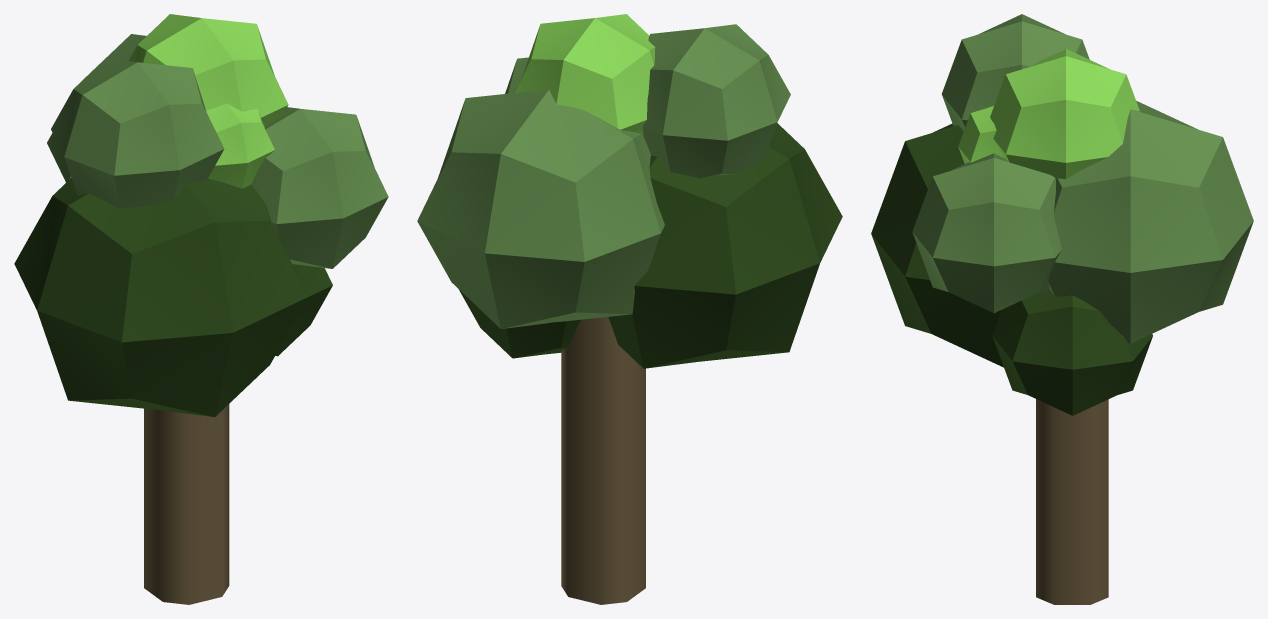
File: Tree_2.fbx
3 renders of one model, left to right at view 1: azimuth 30°, elevation 25°; view 2: azimuth 150°, elevation 25°; view 3: azimuth 270°, elevation 25°, orthographic. The views are drawn at different scales.
Visible parts, largest first — view 1: Large_bubble_Tree; view 2: Large_bubble_Tree; view 3: Large_bubble_Tree.
Boxes of the visible parts, x1,y1,x2,y2 form: Large_bubble_Tree: (14,14,388,604); Large_bubble_Tree: (417,14,842,604); Large_bubble_Tree: (871,14,1253,604).
Bounding box in the file's own units: 2.68 × 4.4 × 2.83.
